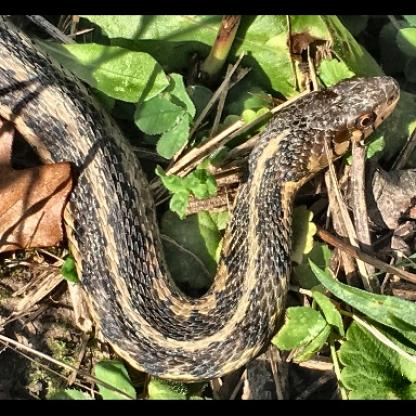Snake: (2, 15, 404, 377)
